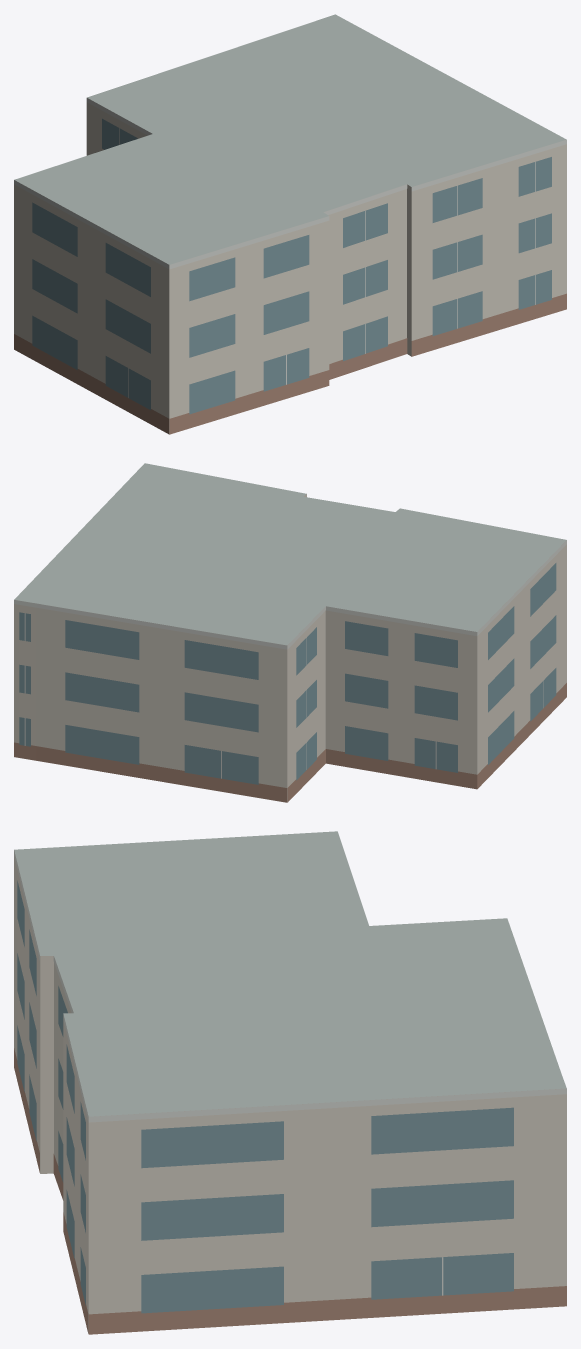
The model's file is survey-upis-32832408.glb.
3 views of the same model, one above another, from view 1: azimuth 30°, elevation 25°; view 2: azimuth 150°, elevation 25°; view 3: azimuth 270°, elevation 25° (orthographic). The views are drawn at different scales.
Visible parts, largest first — view 1: survey-upis-32832408.tmp; view 2: survey-upis-32832408.tmp; view 3: survey-upis-32832408.tmp.
Part boxes in pixels (x1=…): survey-upis-32832408.tmp: x1=14, y1=14, x2=566, y2=434; survey-upis-32832408.tmp: x1=14, y1=463, x2=566, y2=802; survey-upis-32832408.tmp: x1=14, y1=831, x2=566, y2=1334.
Bounding box in the file's own units: 25.73 × 9.15 × 21.05.
